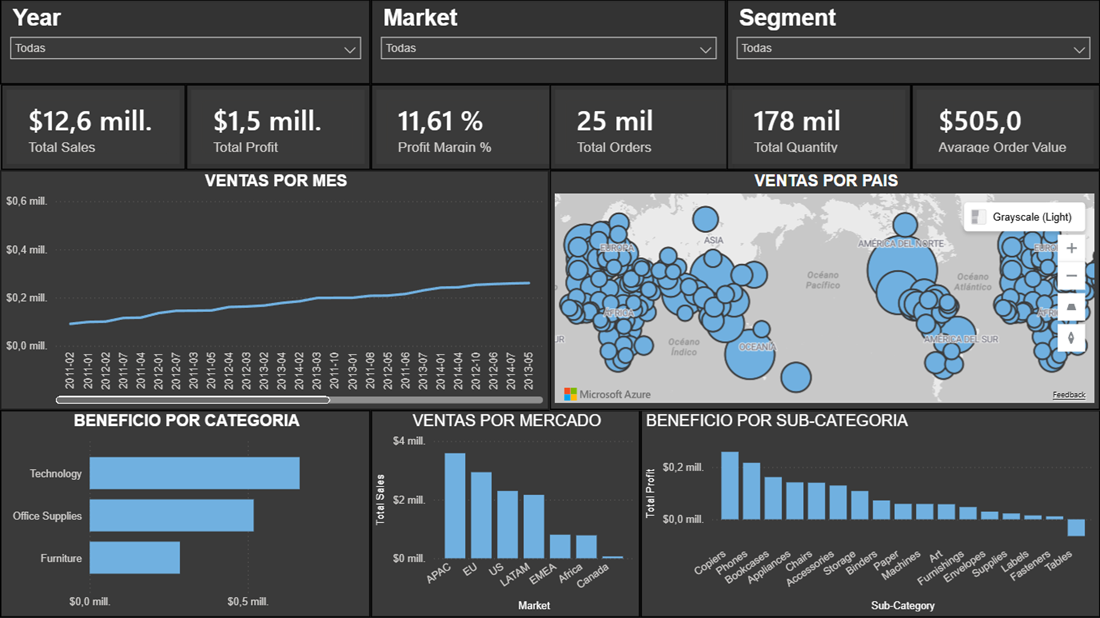

The dashboard page shown, as its layout file describes it:
{"tool":"powerbi","page":{"name":"Executive Dashboard","canvas":[1280,720],"ordinal":0},"visuals":[{"type":"cardVisual","fields":{"Data":["Orders.Total Sales"]},"box":[1.2,98.8,215.1,100],"z":0},{"type":"cardVisual","fields":{"Data":["Orders.Total Profit"]},"box":[216.3,98.8,215.1,100],"z":1000},{"type":"cardVisual","fields":{"Data":["Orders.Profit Margin %"]},"box":[431.4,98.8,215.1,100],"z":2000},{"type":"cardVisual","fields":{"Data":["Orders.Total Orders"]},"box":[639.5,98.8,215.1,100],"z":3000},{"type":"cardVisual","fields":{"Data":["Orders.Total Quantity"]},"box":[845.4,98.8,215.1,100],"z":4000},{"type":"cardVisual","fields":{"Data":["Orders.Avarage Order Value"]},"box":[1060.5,98.8,219.8,100],"z":5000},{"type":"slicer","fields":{"Values":["Calendar.Year"]},"box":[0,0,431.4,98.8],"z":6000},{"type":"slicer","fields":{"Values":["Orders.Market"]},"box":[431.4,0,414,98.8],"z":7000},{"type":"slicer","fields":{"Values":["Orders.Segment"]},"box":[845.4,0,434.9,98.8],"z":8000},{"type":"lineChart","title":"VENTAS POR MES","fields":{"Category":["Calendar.Year Month"],"Y":["Sum(Orders.Sales)"]},"box":[0,198.8,639.5,279.1],"z":9000},{"type":"barChart","title":"BENEFICIO POR CATEGORIA","fields":{"Category":["Orders.Category"],"Y":["Orders.Total Profit"]},"box":[0,477.9,431.4,241.9],"z":10000},{"type":"columnChart","title":"VENTAS POR MERCADO","fields":{"Category":["Orders.Market"],"Y":["Orders.Total Sales"]},"box":[431.4,477.9,314,241.9],"z":11000},{"type":"columnChart","title":"BENEFICIO POR SUB-CATEGORIA","fields":{"Category":["Orders.Sub-Category"],"Y":["Orders.Total Profit"]},"box":[745.4,477.9,534.9,241.9],"z":12000},{"type":"azureMap","title":"VENTAS POR PAIS","fields":{"Category":["Orders.Country"],"Size":["Orders.Total Sales"]},"box":[639.5,198.8,640.7,279.1],"z":13000}]}

Visuals, with their boxes in screenshot pixels (x1, y1, x2, y2), scaled from the page's 1280x720 canvas onto the 1100x618 screenshot:
cardVisual - Orders.Total Sales: 1,85,186,171
cardVisual - Orders.Total Profit: 186,85,371,171
cardVisual - Orders.Profit Margin %: 371,85,556,171
cardVisual - Orders.Total Orders: 550,85,734,171
cardVisual - Orders.Total Quantity: 727,85,911,171
cardVisual - Orders.Avarage Order Value: 911,85,1099,171
slicer - Calendar.Year: 0,0,371,85
slicer - Orders.Market: 371,0,727,85
slicer - Orders.Segment: 727,0,1099,85
"VENTAS POR MES" lineChart: 0,171,550,410
"BENEFICIO POR CATEGORIA" barChart: 0,410,371,617
"VENTAS POR MERCADO" columnChart: 371,410,641,617
"BENEFICIO POR SUB-CATEGORIA" columnChart: 641,410,1099,617
"VENTAS POR PAIS" azureMap: 550,171,1099,410
